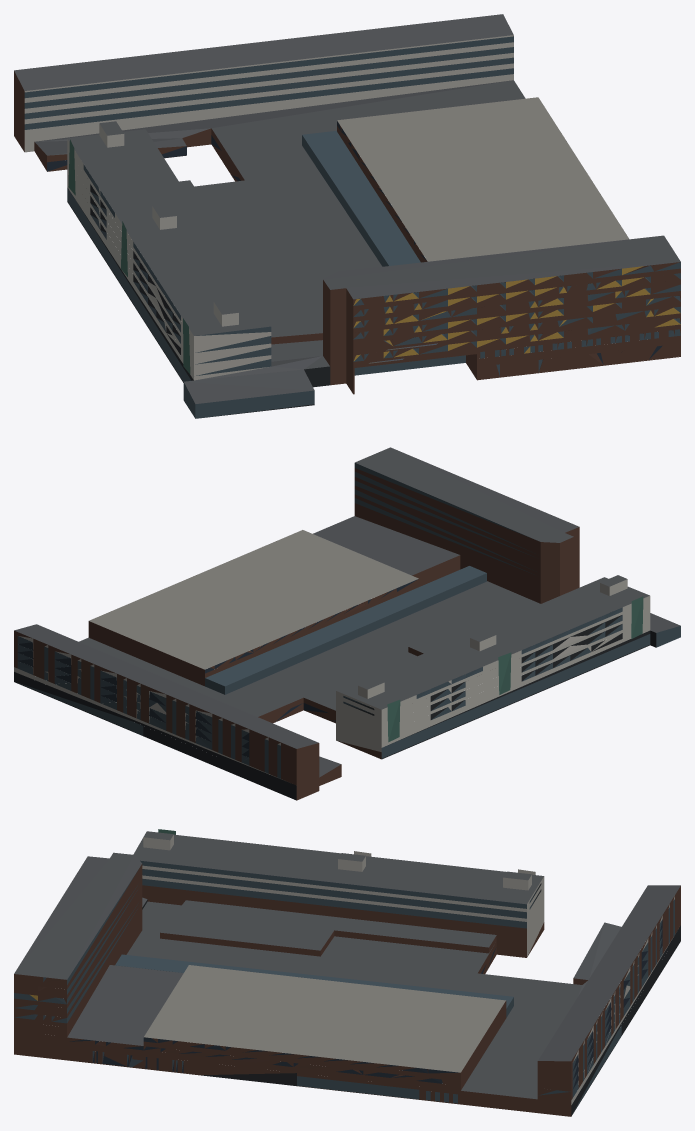
The model's file is winkelcentrum-plein-40-45.lod2.glb.
3 views of the same model, one above another, from view 1: azimuth 30°, elevation 25°; view 2: azimuth 150°, elevation 25°; view 3: azimuth 270°, elevation 25° (orthographic). The views are drawn at different scales.
Parts seen in each view (by area): view 1: lod2; view 2: lod2; view 3: lod2.
Part boxes in pixels (x1=…): lod2: x1=14, y1=14, x2=680, y2=418; lod2: x1=14, y1=447, x2=680, y2=800; lod2: x1=14, y1=829, x2=680, y2=1116.
Size of the model in its own units: 157 by 24.69 by 185.
